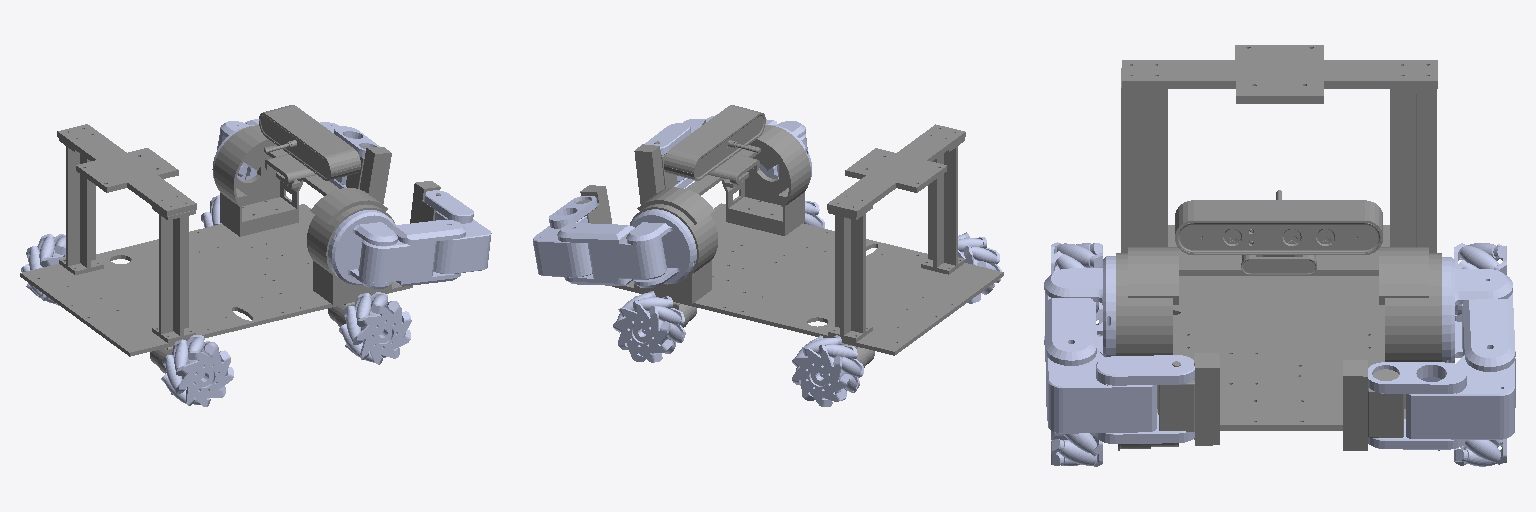
robot.urdf — Robot_URDF_Ground_Plane_Ref:
<?xml version="1.0" encoding="utf-8"?>
<!-- This URDF was automatically created by SolidWorks to URDF Exporter! Originally created by [author] ([email redacted]) 
     Commit Version: 1.6.0-4-g7f85cfe  Build Version: 1.6.7995.38578
     For more information, please see http://wiki.ros.org/sw_urdf_exporter -->
<robot
  name="Robot_URDF_Ground_Plane_Ref">
  <link
    name="Base_Link">
    <inertial>
      <origin
        xyz="0.024664 8.4262E-05 0.10682"
        rpy="0 0 0" />
      <mass
        value="1.5698" />
      <inertia
        ixx="0.0043238"
        ixy="-1.3145E-05"
        ixz="-1.4247E-06"
        iyy="0.0063945"
        iyz="-1.5198E-08"
        izz="0.009541" />
    </inertial>
    <visual>
      <origin
        xyz="0 0 0"
        rpy="0 0 0" />
      <geometry>
        <mesh
          filename="package://Robot_URDF_Ground_Plane_Ref/meshes/Base_Link.STL" />
      </geometry>
      <material
        name="">
        <color
          rgba="0.62745 0.62745 0.62745 1" />
      </material>
    </visual>
    <collision>
      <origin
        xyz="0 0 0"
        rpy="0 0 0" />
      <geometry>
        <mesh
          filename="package://Robot_URDF_Ground_Plane_Ref/meshes/Base_Link.STL" />
      </geometry>
    </collision>
  </link>
  <link
    name="RWB_Link">
    <inertial>
      <origin
        xyz="-1.0854E-05 4.786E-05 -0.017971"
        rpy="0 0 0" />
      <mass
        value="0.1238" />
      <inertia
        ixx="2.3671E-05"
        ixy="-1.0781E-10"
        ixz="2.2822E-12"
        iyy="2.3671E-05"
        iyz="8.6489E-13"
        izz="3.1205E-05" />
    </inertial>
    <visual>
      <origin
        xyz="0 0 0"
        rpy="0 0 0" />
      <geometry>
        <mesh
          filename="package://Robot_URDF_Ground_Plane_Ref/meshes/RWB_Link.STL" />
      </geometry>
      <material
        name="">
        <color
          rgba="0.79216 0.81961 0.93333 1" />
      </material>
    </visual>
    <collision>
      <origin
        xyz="0 0 0"
        rpy="0 0 0" />
      <geometry>
        <mesh
          filename="package://Robot_URDF_Ground_Plane_Ref/meshes/RWB_Link.STL" />
      </geometry>
    </collision>
  </link>
  <joint
    name="RWB_Joint"
    type="continuous">
    <origin
      xyz="-0.11841 -0.17729 0.040051"
      rpy="1.5708 0 0" />
    <parent
      link="Base_Link" />
    <child
      link="RWB_Link" />
    <axis
      xyz="0 0 -1" />
  </joint>
  <link
    name="LWB_Link">
    <inertial>
      <origin
        xyz="-1.5235E-05 -4.665E-05 -0.017971"
        rpy="0 0 0" />
      <mass
        value="0.1238" />
      <inertia
        ixx="2.3671E-05"
        ixy="1.1724E-10"
        ixz="-2.4392E-12"
        iyy="2.3671E-05"
        iyz="4.4487E-13"
        izz="3.1205E-05" />
    </inertial>
    <visual>
      <origin
        xyz="0 0 0"
        rpy="0 0 0" />
      <geometry>
        <mesh
          filename="package://Robot_URDF_Ground_Plane_Ref/meshes/LWB_Link.STL" />
      </geometry>
      <material
        name="">
        <color
          rgba="0.79216 0.81961 0.93333 1" />
      </material>
    </visual>
    <collision>
      <origin
        xyz="0 0 0"
        rpy="0 0 0" />
      <geometry>
        <mesh
          filename="package://Robot_URDF_Ground_Plane_Ref/meshes/LWB_Link.STL" />
      </geometry>
    </collision>
  </link>
  <joint
    name="LWB_Joint"
    type="continuous">
    <origin
      xyz="-0.11853 0.17731 0.040017"
      rpy="-1.5708 0 0" />
    <parent
      link="Base_Link" />
    <child
      link="LWB_Link" />
    <axis
      xyz="0 0 -1" />
  </joint>
  <link
    name="RWF_Link">
    <inertial>
      <origin
        xyz="-1.7046E-05 3.7649E-05 -0.017971"
        rpy="0 0 0" />
      <mass
        value="0.1238" />
      <inertia
        ixx="2.3671E-05"
        ixy="-2.1807E-10"
        ixz="-6.0488E-09"
        iyy="2.3671E-05"
        iyz="1.6773E-12"
        izz="3.1205E-05" />
    </inertial>
    <visual>
      <origin
        xyz="0 0 0"
        rpy="0 0 0" />
      <geometry>
        <mesh
          filename="package://Robot_URDF_Ground_Plane_Ref/meshes/RWF_Link.STL" />
      </geometry>
      <material
        name="">
        <color
          rgba="0.79216 0.81961 0.93333 1" />
      </material>
    </visual>
    <collision>
      <origin
        xyz="0 0 0"
        rpy="0 0 0" />
      <geometry>
        <mesh
          filename="package://Robot_URDF_Ground_Plane_Ref/meshes/RWF_Link.STL" />
      </geometry>
    </collision>
  </link>
  <joint
    name="RWF_Joint"
    type="continuous">
    <origin
      xyz="0.11722 -0.1773 0.040068"
      rpy="1.5708 0 0" />
    <parent
      link="Base_Link" />
    <child
      link="RWF_Link" />
    <axis
      xyz="0.00080311 0 -1" />
  </joint>
  <link
    name="LWF_Link">
    <inertial>
      <origin
        xyz="4.65447904862692E-05 -3.71100962329729E-05 -0.0179706224399743"
        rpy="0 0 0" />
      <mass
        value="0.123795234158923" />
      <inertia
        ixx="2.36710972053982E-05"
        ixy="-2.18762080533464E-10"
        ixz="-6.05208234517939E-09"
        iyy="2.36711259194826E-05"
        iyz="-2.05585925757485E-12"
        izz="3.12049265170306E-05" />
    </inertial>
    <visual>
      <origin
        xyz="0 0 0"
        rpy="0 0 0" />
      <geometry>
        <mesh
          filename="package://Robot_URDF_Ground_Plane_Ref/meshes/LWF_Link.STL" />
      </geometry>
      <material
        name="">
        <color
          rgba="0.792156862745098 0.819607843137255 0.933333333333333 1" />
      </material>
    </visual>
    <collision>
      <origin
        xyz="0 0 0"
        rpy="0 0 0" />
      <geometry>
        <mesh
          filename="package://Robot_URDF_Ground_Plane_Ref/meshes/LWF_Link.STL" />
      </geometry>
    </collision>
  </link>
  <joint
    name="LWF_Joint"
    type="continuous">
    <origin
      xyz="0.11717 0.17732 0.040069"
      rpy="-1.5708 0 0" />
    <parent
      link="Base_Link" />
    <child
      link="LWF_Link" />
    <axis
      xyz="0.00080311 0 -1" />
  </joint>
  <link
    name="Lidar_Link">
    <inertial>
      <origin
        xyz="0.010634 -0.0016626 -0.018432"
        rpy="0 0 0" />
      <mass
        value="0.073082" />
      <inertia
        ixx="1.958E-05"
        ixy="-1.0772E-07"
        ixz="-4.2836E-07"
        iyy="2.4126E-05"
        iyz="9.0428E-09"
        izz="4.1419E-05" />
    </inertial>
    <visual>
      <origin
        xyz="0 0 0"
        rpy="0 0 0" />
      <geometry>
        <mesh
          filename="package://Robot_URDF_Ground_Plane_Ref/meshes/Lidar_Link.STL" />
      </geometry>
      <material
        name="">
        <color
          rgba="0.79216 0.81961 0.93333 1" />
      </material>
    </visual>
    <collision>
      <origin
        xyz="0 0 0"
        rpy="0 0 0" />
      <geometry>
        <mesh
          filename="package://Robot_URDF_Ground_Plane_Ref/meshes/Lidar_Link.STL" />
      </geometry>
    </collision>
  </link>
  <joint
    name="Lidar_Joint"
    type="continuous">
    <origin
      xyz="-0.13133 0.0019148 0.27617"
      rpy="0 0 0" />
    <parent
      link="Base_Link" />
    <child
      link="Lidar_Link" />
    <axis
      xyz="0 0 -1" />
  </joint>
  <link
    name="Right_Shoulder_Link">
    <inertial>
      <origin
        xyz="0.00014994 0.0012103 0.0050026"
        rpy="0 0 0" />
      <mass
        value="0.058649" />
      <inertia
        ixx="5.305E-05"
        ixy="-1.8652E-06"
        ixz="-5.6482E-08"
        iyy="3.8225E-05"
        iyz="-4.5593E-07"
        izz="6.5749E-05" />
    </inertial>
    <visual>
      <origin
        xyz="0 0 0"
        rpy="0 0 0" />
      <geometry>
        <mesh
          filename="package://Robot_URDF_Ground_Plane_Ref/meshes/Right_Shoulder_Link.STL" />
      </geometry>
      <material
        name="">
        <color
          rgba="0.79216 0.81961 0.93333 1" />
      </material>
    </visual>
    <collision>
      <origin
        xyz="0 0 0"
        rpy="0 0 0" />
      <geometry>
        <mesh
          filename="package://Robot_URDF_Ground_Plane_Ref/meshes/Right_Shoulder_Link.STL" />
      </geometry>
    </collision>
  </link>
  <joint
    name="Right_Shoulder_Joint"
    type="revolute">
    <origin
      xyz="0.11724 -0.13929 0.131"
      rpy="1.5708 0 0" />
    <parent
      link="Base_Link" />
    <child
      link="Right_Shoulder_Link" />
    <axis
      xyz="0 0 -1" />
    <limit
      lower="-1.57"
      upper="0.436"
      effort="0"
      velocity="0" />
  </joint>
  <link
    name="Right_Arm_Link">
    <inertial>
      <origin
        xyz="0.052455 0.00081455 0.025104"
        rpy="0 0 0" />
      <mass
        value="0.092069" />
      <inertia
        ixx="6.7717E-05"
        ixy="-2.1015E-07"
        ixz="1.0501E-05"
        iyy="0.00014457"
        iyz="7.1307E-08"
        izz="0.0001037" />
    </inertial>
    <visual>
      <origin
        xyz="0 0 0"
        rpy="0 0 0" />
      <geometry>
        <mesh
          filename="package://Robot_URDF_Ground_Plane_Ref/meshes/Right_Arm_Link.STL" />
      </geometry>
      <material
        name="">
        <color
          rgba="0.79216 0.81961 0.93333 1" />
      </material>
    </visual>
    <collision>
      <origin
        xyz="0 0 0"
        rpy="0 0 0" />
      <geometry>
        <mesh
          filename="package://Robot_URDF_Ground_Plane_Ref/meshes/Right_Arm_Link.STL" />
      </geometry>
    </collision>
  </link>
  <joint
    name="Right_Arm_Joint"
    type="revolute">
    <origin
      xyz="-0.0039957 -0.032253 0.026"
      rpy="-1.5708 0 0" />
    <parent
      link="Right_Shoulder_Link" />
    <child
      link="Right_Arm_Link" />
    <axis
      xyz="-0.12294 0 -0.99241" />
    <limit
      lower="-0.436"
      upper="1.0472"
      effort="0"
      velocity="0" />
  </joint>
  <link
    name="Right_Wrist_Link">
    <inertial>
      <origin
        xyz="0.024028 0.034283 -0.031626"
        rpy="0 0 0" />
      <mass
        value="0.077914" />
      <inertia
        ixx="0.00011759"
        ixy="-1.6354E-05"
        ixz="-1.3234E-06"
        iyy="6.1242E-05"
        iyz="-2.5194E-06"
        izz="0.00010618" />
    </inertial>
    <visual>
      <origin
        xyz="0 0 0"
        rpy="0 0 0" />
      <geometry>
        <mesh
          filename="package://Robot_URDF_Ground_Plane_Ref/meshes/Right_Wrist_Link.STL" />
      </geometry>
      <material
        name="">
        <color
          rgba="0.79216 0.81961 0.93333 1" />
      </material>
    </visual>
    <collision>
      <origin
        xyz="0 0 0"
        rpy="0 0 0" />
      <geometry>
        <mesh
          filename="package://Robot_URDF_Ground_Plane_Ref/meshes/Right_Wrist_Link.STL" />
      </geometry>
    </collision>
  </link>
  <joint
    name="Right_Wrist_Joint"
    type="revolute">
    <origin
      xyz="0.099106 0.0014534 0.051708"
      rpy="0 0 0" />
    <parent
      link="Right_Arm_Link" />
    <child
      link="Right_Wrist_Link" />
    <axis
      xyz="-0.12294 0 -0.99241" />
    <limit
      lower="-0.45"
      upper="1.57"
      effort="0"
      velocity="0" />
  </joint>
  <link
    name="Right_Gripper_Link">
    <inertial>
      <origin
        xyz="0.00063323 0.0005163 -0.022403"
        rpy="0 0 0" />
      <mass
        value="0.06849" />
      <inertia
        ixx="3.4471E-05"
        ixy="2.2082E-06"
        ixz="2.4008E-07"
        iyy="1.6826E-05"
        iyz="4.8017E-07"
        izz="2.4953E-05" />
    </inertial>
    <visual>
      <origin
        xyz="0 0 0"
        rpy="0 0 0" />
      <geometry>
        <mesh
          filename="package://Robot_URDF_Ground_Plane_Ref/meshes/Right_Gripper_Link.STL" />
      </geometry>
      <material
        name="">
        <color
          rgba="0.62745 0.62745 0.62745 1" />
      </material>
    </visual>
    <collision>
      <origin
        xyz="0 0 0"
        rpy="0 0 0" />
      <geometry>
        <mesh
          filename="package://Robot_URDF_Ground_Plane_Ref/meshes/Right_Gripper_Link.STL" />
      </geometry>
    </collision>
  </link>
  <joint
    name="Right_Gripper_Joint"
    type="fixed">
    <origin
      xyz="0.028242 0.11712 -0.036549"
      rpy="-1.5669 0 0" />
    <parent
      link="Right_Wrist_Link" />
    <child
      link="Right_Gripper_Link" />
    <axis
      xyz="0 0 0" />
  </joint>
  <link
    name="Left_Shoulder_Link">
    <inertial>
      <origin
        xyz="-0.00022366 0.0011989 0.0050026"
        rpy="0 0 0" />
      <mass
        value="0.058649" />
      <inertia
        ixx="5.2767E-05"
        ixy="2.756E-06"
        ixz="8.4252E-08"
        iyy="3.8508E-05"
        iyz="-4.5163E-07"
        izz="6.5749E-05" />
    </inertial>
    <visual>
      <origin
        xyz="0 0 0"
        rpy="0 0 0" />
      <geometry>
        <mesh
          filename="package://Robot_URDF_Ground_Plane_Ref/meshes/Left_Shoulder_Link.STL" />
      </geometry>
      <material
        name="">
        <color
          rgba="0.79216 0.81961 0.93333 1" />
      </material>
    </visual>
    <collision>
      <origin
        xyz="0 0 0"
        rpy="0 0 0" />
      <geometry>
        <mesh
          filename="package://Robot_URDF_Ground_Plane_Ref/meshes/Left_Shoulder_Link.STL" />
      </geometry>
    </collision>
  </link>
  <joint
    name="Left_Shoulder_Joint"
    type="revolute">
    <origin
      xyz="0.11724 0.13931 0.131"
      rpy="-1.5708 0 0" />
    <parent
      link="Base_Link" />
    <child
      link="Left_Shoulder_Link" />
    <axis
      xyz="0 0 -1" />
    <limit
      lower="-0.436"
      upper="1.57"
      effort="0"
      velocity="0" />
  </joint>
  <link
    name="Left_Arm_Link">
    <inertial>
      <origin
        xyz="0.042361 0.00088716 -0.03981"
        rpy="0 0 0" />
      <mass
        value="0.092055" />
      <inertia
        ixx="6.5025E-05"
        ixy="-2.518E-06"
        ixz="1.7959E-06"
        iyy="0.00014444"
        iyz="3.1486E-07"
        izz="0.00010642" />
    </inertial>
    <visual>
      <origin
        xyz="0 0 0"
        rpy="0 0 0" />
      <geometry>
        <mesh
          filename="package://Robot_URDF_Ground_Plane_Ref/meshes/Left_Arm_Link.STL" />
      </geometry>
      <material
        name="">
        <color
          rgba="0.79216 0.81961 0.93333 1" />
      </material>
    </visual>
    <collision>
      <origin
        xyz="0 0 0"
        rpy="0 0 0" />
      <geometry>
        <mesh
          filename="package://Robot_URDF_Ground_Plane_Ref/meshes/Left_Arm_Link.STL" />
      </geometry>
    </collision>
  </link>
  <joint
    name="Left_Arm_Joint"
    type="revolute">
    <origin
      xyz="0.0059601 -0.031949 0.026"
      rpy="1.5708 0 0" />
    <parent
      link="Left_Shoulder_Link" />
    <child
      link="Left_Arm_Link" />
    <axis
      xyz="-0.18339 0 -0.98304" />
    <limit
      lower="-1.0472"
      upper="0.436"
      effort="0"
      velocity="0" />
  </joint>
  <link
    name="Left_Wrist_Link">
    <inertial>
      <origin
        xyz="0.021514 -0.033655 -0.040195"
        rpy="0 0 0" />
      <mass
        value="0.077914" />
      <inertia
        ixx="0.00011663"
        ixy="1.6045E-05"
        ixz="-1.9842E-06"
        iyy="6.198E-05"
        iyz="-7.5833E-06"
        izz="0.0001064" />
    </inertial>
    <visual>
      <origin
        xyz="0 0 0"
        rpy="0 0 0" />
      <geometry>
        <mesh
          filename="package://Robot_URDF_Ground_Plane_Ref/meshes/Left_Wrist_Link.STL" />
      </geometry>
      <material
        name="">
        <color
          rgba="0.79216 0.81961 0.93333 1" />
      </material>
    </visual>
    <collision>
      <origin
        xyz="0 0 0"
        rpy="0 0 0" />
      <geometry>
        <mesh
          filename="package://Robot_URDF_Ground_Plane_Ref/meshes/Left_Wrist_Link.STL" />
      </geometry>
    </collision>
  </link>
  <joint
    name="Left_Wrist_Joint"
    type="revolute">
    <origin
      xyz="0.09047 0.001747 -0.016369"
      rpy="0 0 0" />
    <parent
      link="Left_Arm_Link" />
    <child
      link="Left_Wrist_Link" />
    <axis
      xyz="-0.18339 0 -0.98304" />
    <limit
      lower="-1.57"
      upper="0.45"
      effort="0"
      velocity="0" />
  </joint>
  <link
    name="Left_Gripper_Link">
    <inertial>
      <origin
        xyz="0.00029536 0.00051596 -0.02241"
        rpy="0 0 0" />
      <mass
        value="0.06849" />
      <inertia
        ixx="3.4138E-05"
        ixy="-3.2847E-06"
        ixz="1.5225E-07"
        iyy="1.7163E-05"
        iyz="3.7811E-07"
        izz="2.495E-05" />
    </inertial>
    <visual>
      <origin
        xyz="0 0 0"
        rpy="0 0 0" />
      <geometry>
        <mesh
          filename="package://Robot_URDF_Ground_Plane_Ref/meshes/Left_Gripper_Link.STL" />
      </geometry>
      <material
        name="">
        <color
          rgba="0.62745 0.62745 0.62745 1" />
      </material>
    </visual>
    <collision>
      <origin
        xyz="0 0 0"
        rpy="0 0 0" />
      <geometry>
        <mesh
          filename="package://Robot_URDF_Ground_Plane_Ref/meshes/Left_Gripper_Link.STL" />
      </geometry>
    </collision>
  </link>
  <joint
    name="Left_Gripper_joint"
    type="fixed">
    <origin
      xyz="0.028835 -0.11636 -0.037118"
      rpy="1.569 0 0" />
    <parent
      link="Left_Wrist_Link" />
    <child
      link="Left_Gripper_Link" />
    <axis
      xyz="0 0 0" />
  </joint>
</robot>

--- What the picture shows (computed from the rendered views, not written in the file) ---
Views: 3 orthographic renders of the robot side by side, from view 1: azimuth 30°, elevation 25°; view 2: azimuth 150°, elevation 25°; view 3: azimuth 270°, elevation 25°.
Robot: Robot_URDF_Ground_Plane_Ref — 14 links, 13 joints (6 revolute, 5 continuous, 2 fixed); root link Base_Link; default pose: all joints at 0.
Visible links, largest first — view 1: Base_Link, Right_Arm_Link, RWF_Link, RWB_Link, Right_Wrist_Link, Right_Shoulder_Link, Left_Gripper_Link, LWB_Link, Left_Wrist_Link, Right_Gripper_Link, Left_Shoulder_Link; view 2: Base_Link, Left_Arm_Link, LWB_Link, LWF_Link, Left_Shoulder_Link, Left_Wrist_Link, Right_Gripper_Link, RWB_Link, Right_Wrist_Link, Left_Gripper_Link, Right_Shoulder_Link; view 3: Base_Link, Right_Wrist_Link, Left_Wrist_Link, Left_Gripper_Link, Right_Gripper_Link, Left_Arm_Link, Right_Arm_Link, Left_Shoulder_Link, Right_Shoulder_Link, RWF_Link, RWB_Link, LWB_Link (+1 smaller).
Boxes of the visible links, box(x1,y1,x2,y2) form: Base_Link: box(20, 105, 412, 373); Right_Arm_Link: box(359, 220, 465, 286); RWF_Link: box(339, 292, 411, 364); RWB_Link: box(161, 335, 233, 406); Right_Wrist_Link: box(424, 190, 491, 273); Right_Shoulder_Link: box(328, 210, 397, 288); Left_Gripper_Link: box(346, 146, 391, 203); LWB_Link: box(21, 234, 65, 305); Left_Wrist_Link: box(320, 122, 379, 188); Right_Gripper_Link: box(410, 181, 440, 223); Left_Shoulder_Link: box(212, 121, 256, 183); Base_Link: box(612, 105, 1003, 367); Left_Arm_Link: box(557, 223, 666, 285); LWB_Link: box(792, 335, 863, 406); LWF_Link: box(613, 291, 685, 362); Left_Shoulder_Link: box(626, 209, 696, 287); Left_Wrist_Link: box(533, 196, 597, 277); Right_Gripper_Link: box(634, 141, 677, 204); RWB_Link: box(958, 232, 1001, 303); Right_Wrist_Link: box(645, 119, 705, 187); Left_Gripper_Link: box(576, 185, 611, 223); Right_Shoulder_Link: box(760, 121, 811, 182); Base_Link: box(1116, 45, 1441, 450); Right_Wrist_Link: box(1046, 343, 1194, 443); Left_Wrist_Link: box(1368, 355, 1515, 449); Left_Gripper_Link: box(1343, 360, 1403, 450); Right_Gripper_Link: box(1158, 353, 1219, 445); Left_Arm_Link: box(1462, 293, 1515, 407); Right_Arm_Link: box(1045, 293, 1096, 406); Left_Shoulder_Link: box(1442, 257, 1512, 362); Right_Shoulder_Link: box(1044, 256, 1115, 356); RWF_Link: box(1051, 431, 1102, 466); RWB_Link: box(1051, 242, 1102, 324); LWB_Link: box(1454, 243, 1506, 321).
Size in the robot's own frame: 0.4517 by 0.3722 by 0.232 metres.
Meshes: 14 distinct files referenced, 13 mesh visuals loaded (13 binary STL); not drawn: 1 (reference not matched to a file when rendering).